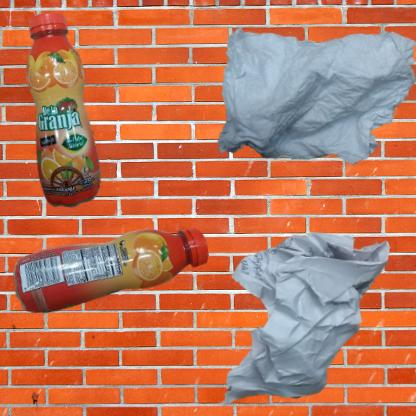botella: (10, 213, 219, 332), (10, 10, 123, 223)
papel: (213, 213, 397, 416), (213, 10, 416, 182)
